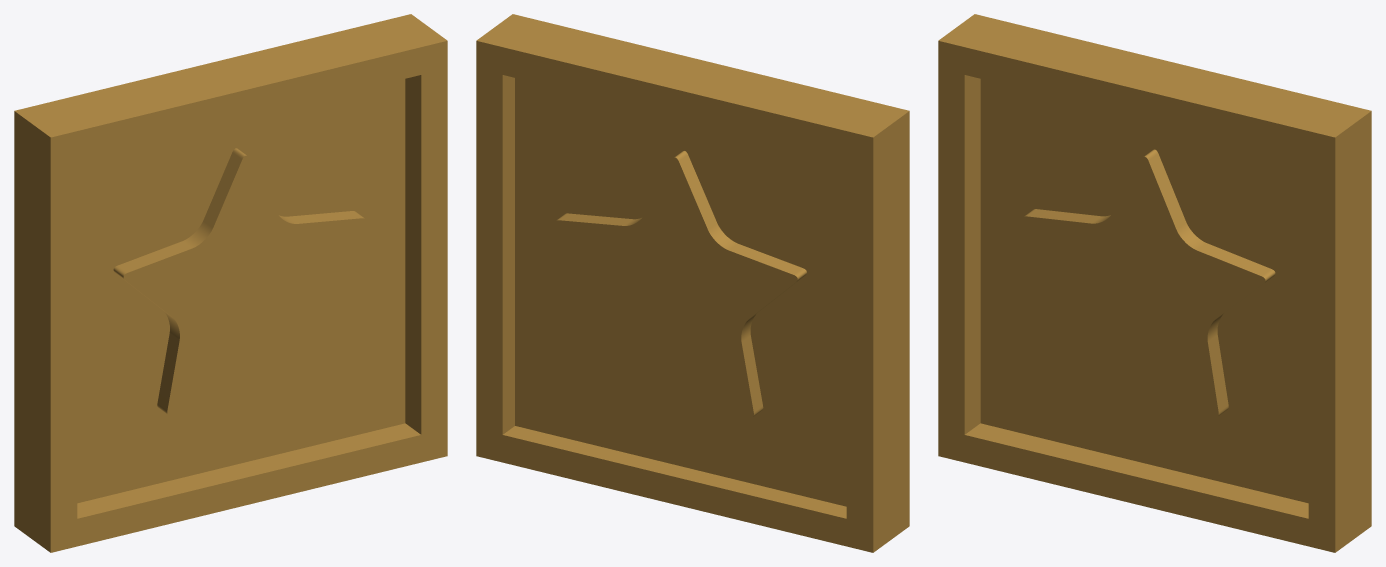
The picture shows the model from 3 angles, left to right: view 1: azimuth 30°, elevation 25°; view 2: azimuth 150°, elevation 25°; view 3: azimuth 330°, elevation 25°; orthographic projection.
Parts seen in each view (by area): view 1: Box001, Star001; view 2: Box001, Star001; view 3: Box001, Star001.
Boxes of the visible parts, x1,y1,x2,y2 form: Box001: [14, 14, 447, 552]; Star001: [113, 148, 366, 415]; Box001: [476, 14, 909, 552]; Star001: [555, 151, 806, 417]; Box001: [938, 14, 1371, 552]; Star001: [1022, 149, 1275, 416].
Bounding box in the file's own units: 0.9144 × 0.9144 × 0.1457.
